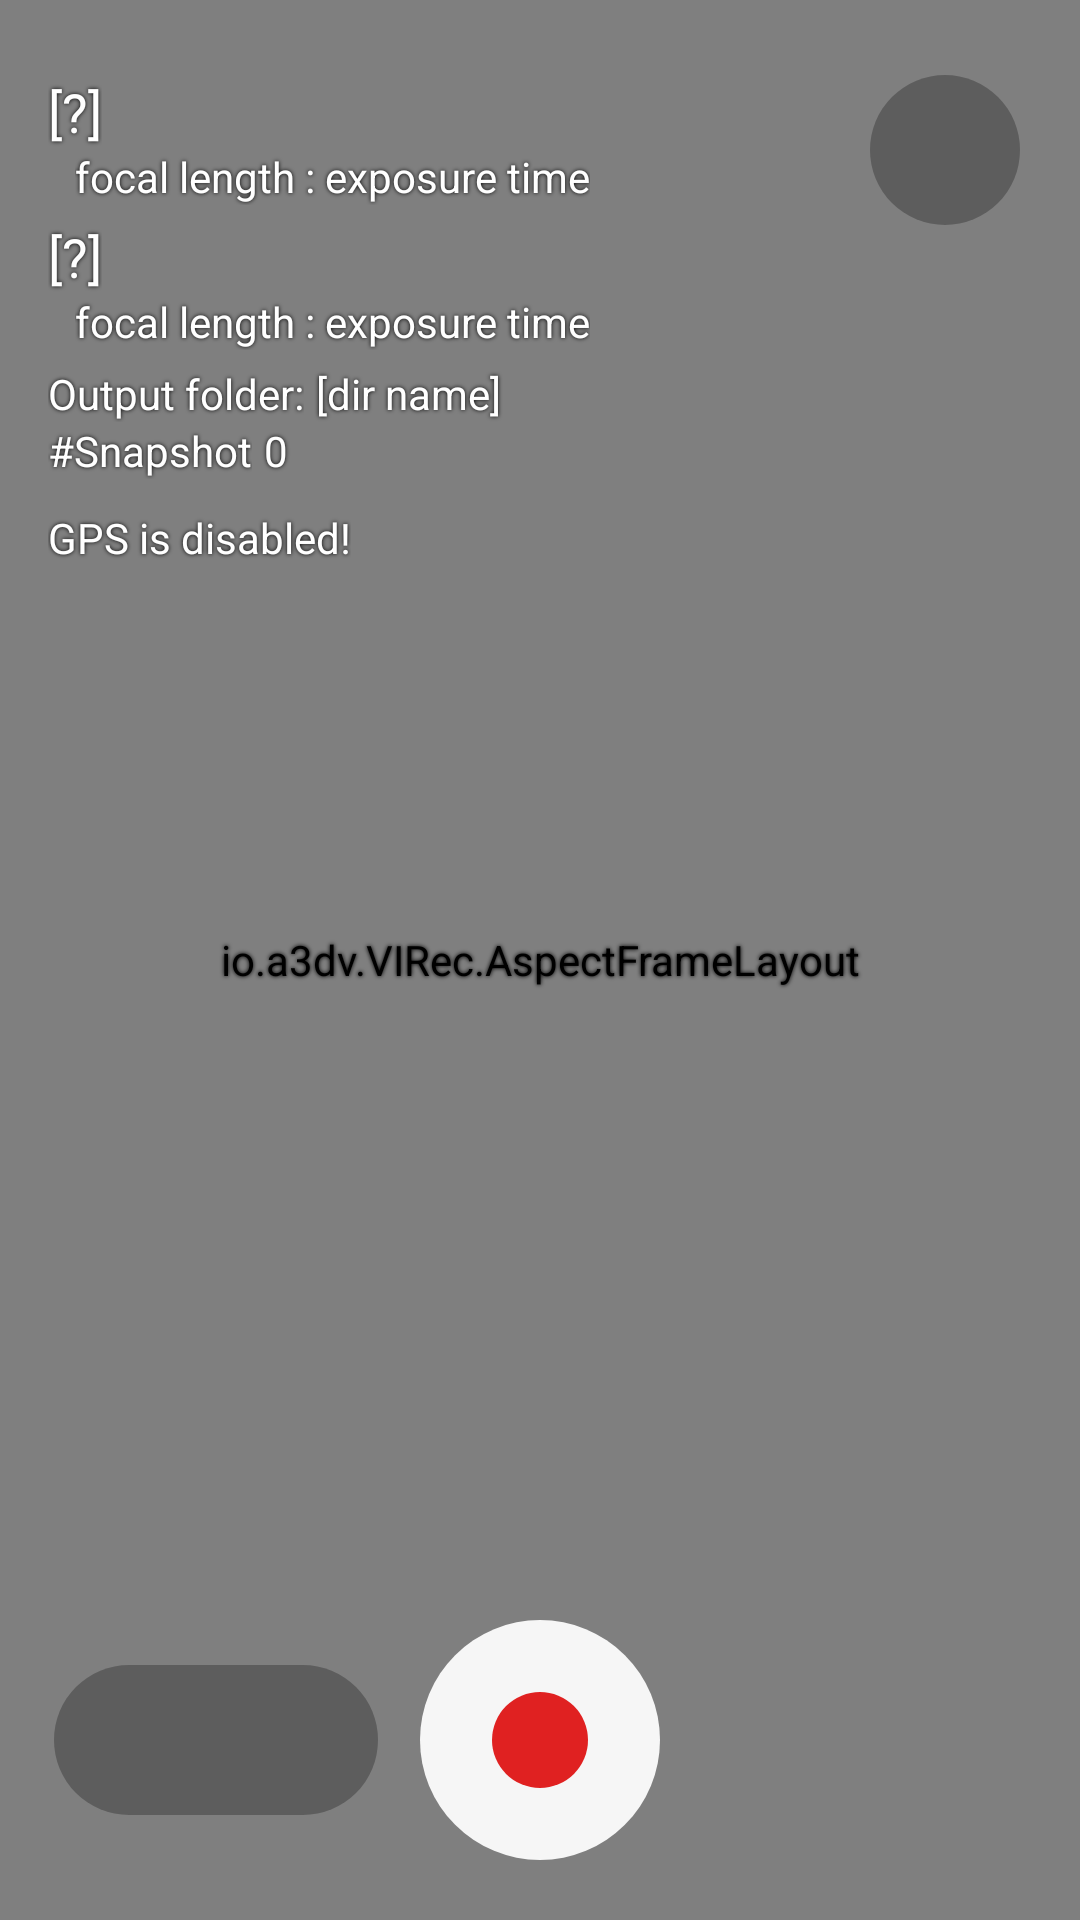

Point at icon controls on the screen. Image size 1080*1920, points as point (x, y).
Record: point (540, 1740)
